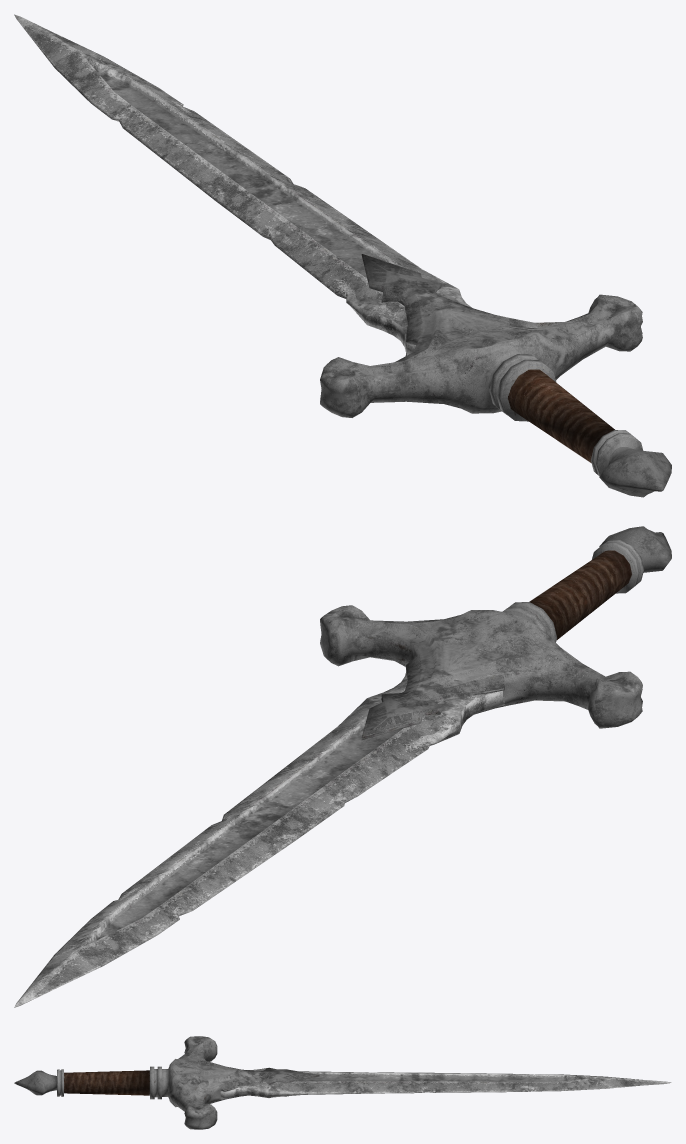
File: sword.glb
The picture shows the model from 3 angles, top to bottom: view 1: azimuth 30°, elevation 25°; view 2: azimuth 150°, elevation 25°; view 3: azimuth 270°, elevation 25°; orthographic projection. The views are drawn at different scales.
Visible parts, largest first — view 1: Handle Lp, Blade Lp; view 2: Handle Lp, Blade Lp; view 3: Handle Lp, Blade Lp.
Boxes of the visible parts, x1,y1,x2,y2 form: Handle Lp: (320, 254, 671, 497); Blade Lp: (14, 14, 472, 355); Handle Lp: (320, 526, 671, 740); Blade Lp: (14, 671, 502, 1007); Handle Lp: (14, 1036, 319, 1129); Blade Lp: (220, 1068, 671, 1098).
Bounding box in the file's own units: 0.3998 × 0.0838 × 1.43.
1 material, 1 textured.
